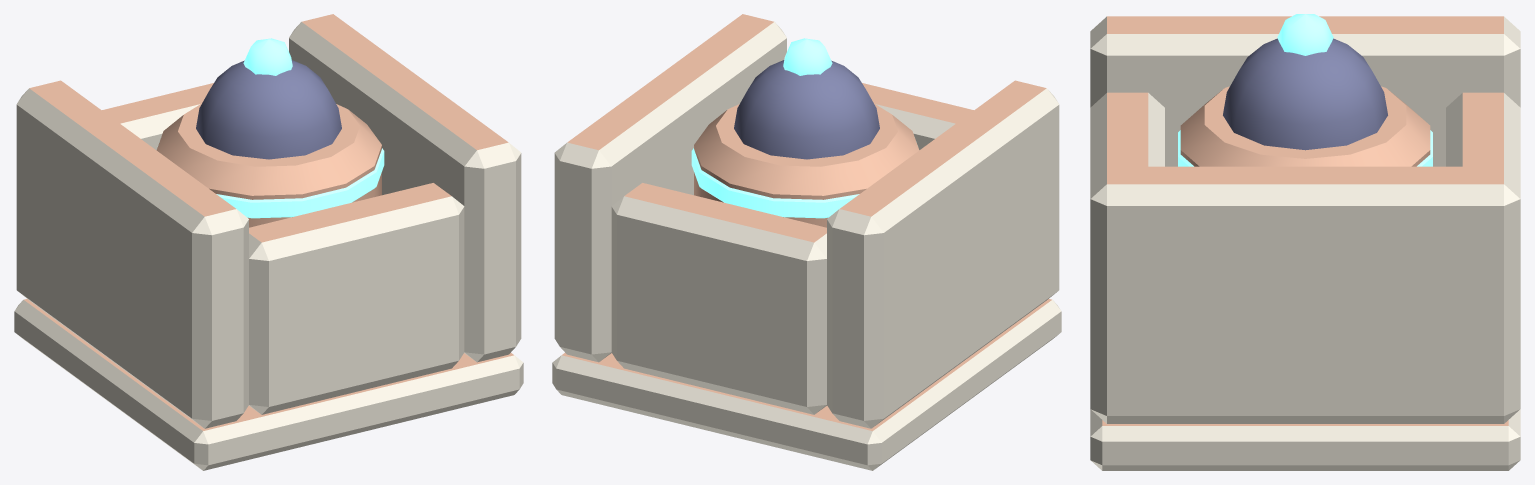
The model's file is R4X_DeployableShieldGenerator_LOD1.fbx.
3 renders of one model, left to right at view 1: azimuth 30°, elevation 25°; view 2: azimuth 150°, elevation 25°; view 3: azimuth 270°, elevation 25°, orthographic. The views are drawn at different scales.
Parts seen in each view (by area): view 1: R4X_DeployableShieldGenerator_LOD1; view 2: R4X_DeployableShieldGenerator_LOD1; view 3: R4X_DeployableShieldGenerator_LOD1.
Part boxes in pixels (x1=…): R4X_DeployableShieldGenerator_LOD1: x1=14, y1=14, x2=523, y2=470; R4X_DeployableShieldGenerator_LOD1: x1=552, y1=14, x2=1061, y2=470; R4X_DeployableShieldGenerator_LOD1: x1=1090, y1=14, x2=1520, y2=470.
Bounding box in the file's own units: 0.52 × 0.495 × 0.52.
